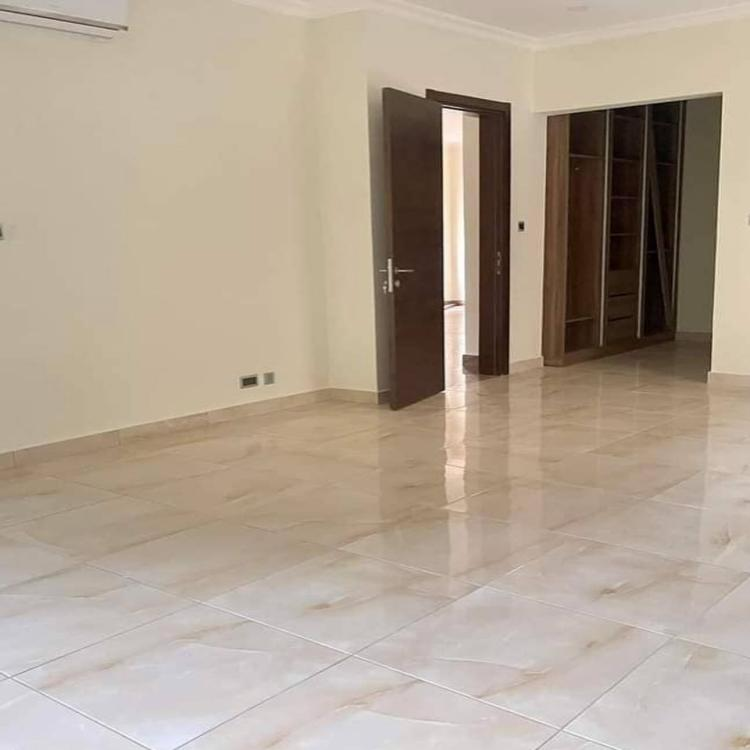OpenDoor: (530, 87, 729, 377), (365, 62, 514, 413)
